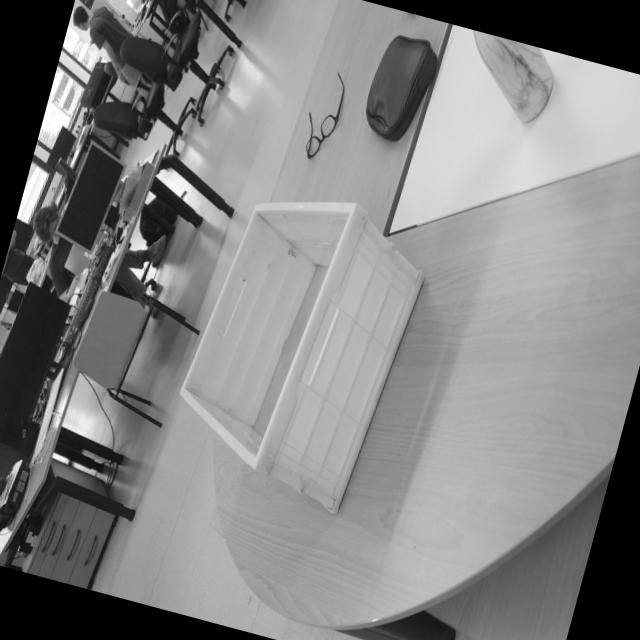box: (148, 159, 446, 552)
